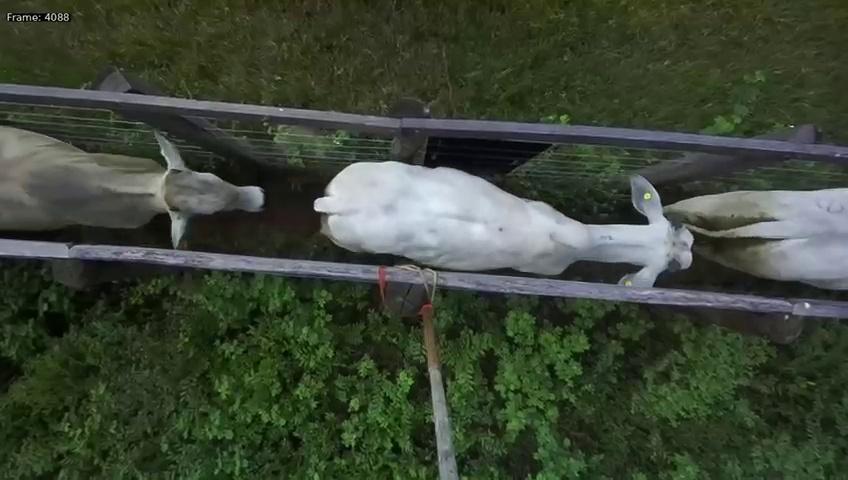cattle: (298, 142, 697, 296), (0, 117, 281, 255)
